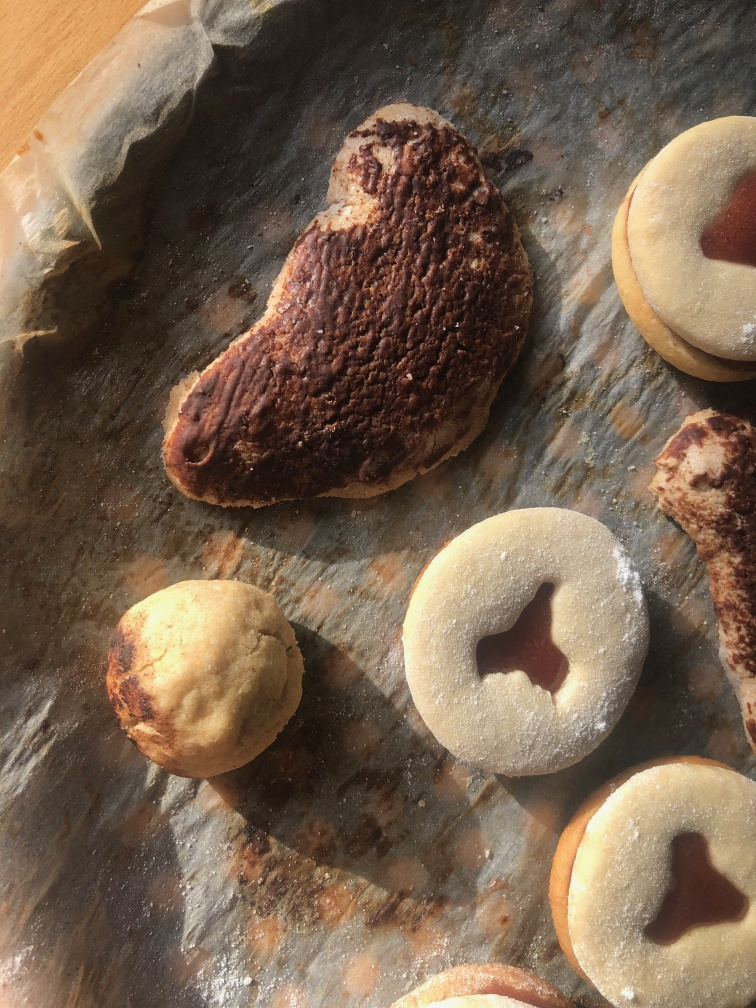christmas shortbread with jam: (397, 499, 653, 780), (548, 752, 756, 1005), (607, 108, 755, 390)
snowball: (102, 574, 310, 778)
weird #1: (155, 92, 539, 512), (644, 401, 755, 752)
